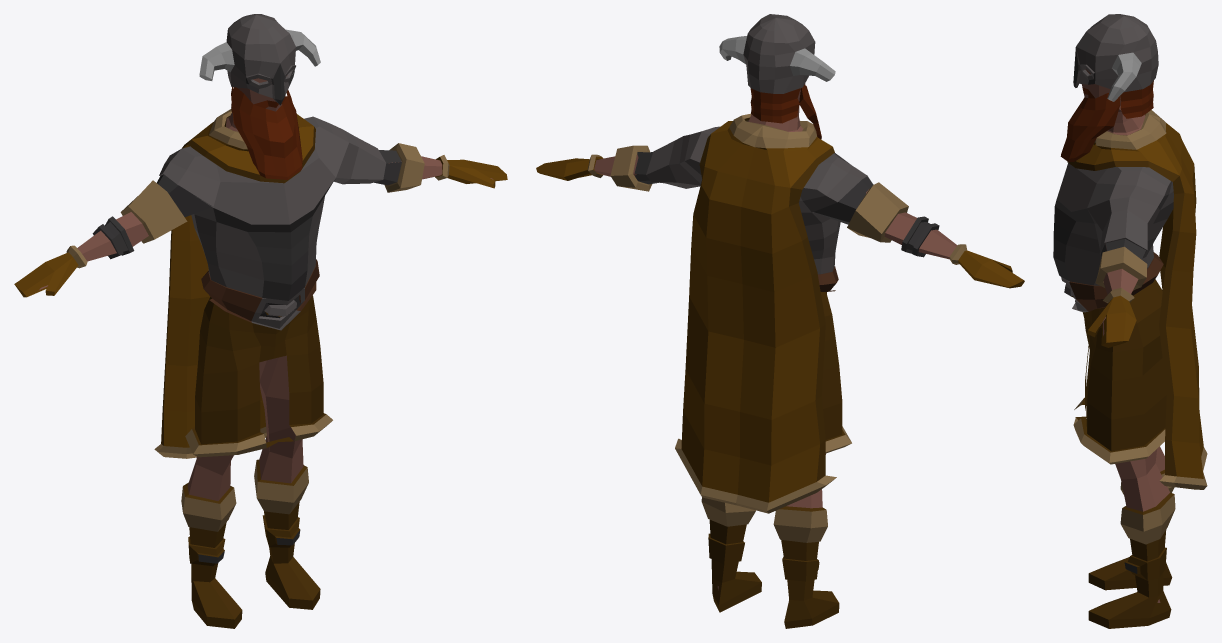
Rendered from scene_pIj8fIe1yk.glb.
3 views of the same model, side by side, from view 1: azimuth 30°, elevation 25°; view 2: azimuth 150°, elevation 25°; view 3: azimuth 270°, elevation 25° (orthographic).
Parts seen in each view (by area): view 1: Shirt_Cylinder.006, Skirt_Cylinder.001, Cape_Cylinder.008, Boots_Cylinder.009, Body_Cylinder, Helmet_Cylinder.002, Beard_Cylinder.013, Gloves_Cylinder.011, Belt_Cylinder.003, Wrist_Guard_Cylinder.010; view 2: Cape_Cylinder.008, Shirt_Cylinder.006, Boots_Cylinder.009, Helmet_Cylinder.002, Gloves_Cylinder.011, Body_Cylinder, Skirt_Cylinder.001, Wrist_Guard_Cylinder.010; view 3: Cape_Cylinder.008, Shirt_Cylinder.006, Skirt_Cylinder.001, Boots_Cylinder.009, Helmet_Cylinder.002, Body_Cylinder, Beard_Cylinder.013, Gloves_Cylinder.011, Belt_Cylinder.003.
Boxes of the visible parts, x1=… form: Shirt_Cylinder.006: x1=120, y1=116, x2=424, y2=300; Skirt_Cylinder.001: x1=185, y1=295, x2=332, y2=457; Cape_Cylinder.008: x1=154, y1=109, x2=315, y2=458; Boots_Cylinder.009: x1=181, y1=459, x2=320, y2=628; Body_Cylinder: x1=39, y1=75, x2=493, y2=500; Helmet_Cylinder.002: x1=199, y1=14, x2=320, y2=112; Beard_Cylinder.013: x1=231, y1=87, x2=302, y2=179; Gloves_Cylinder.011: x1=14, y1=155, x2=507, y2=297; Belt_Cylinder.003: x1=201, y1=259, x2=319, y2=330; Wrist_Guard_Cylinder.010: x1=92, y1=216, x2=134, y2=259; Cape_Cylinder.008: x1=675, y1=113, x2=836, y2=513; Shirt_Cylinder.006: x1=610, y1=126, x2=908, y2=274; Boots_Cylinder.009: x1=701, y1=497, x2=839, y2=628; Helmet_Cylinder.002: x1=719, y1=14, x2=835, y2=123; Gloves_Cylinder.011: x1=536, y1=154, x2=1024, y2=288; Body_Cylinder: x1=594, y1=83, x2=957, y2=590; Skirt_Cylinder.001: x1=820, y1=292, x2=851, y2=453; Wrist_Guard_Cylinder.010: x1=901, y1=216, x2=939, y2=257; Cape_Cylinder.008: x1=1067, y1=110, x2=1207, y2=489; Shirt_Cylinder.006: x1=1053, y1=163, x2=1173, y2=290; Skirt_Cylinder.001: x1=1073, y1=279, x2=1166, y2=464; Boots_Cylinder.009: x1=1088, y1=469, x2=1175, y2=628; Helmet_Cylinder.002: x1=1073, y1=14, x2=1158, y2=118; Body_Cylinder: x1=1081, y1=69, x2=1169, y2=602; Beard_Cylinder.013: x1=1060, y1=87, x2=1120, y2=161; Gloves_Cylinder.011: x1=1087, y1=288, x2=1136, y2=347; Belt_Cylinder.003: x1=1061, y1=252, x2=1163, y2=312.
Bounding box in the file's own units: 3.17 × 3.7 × 0.8826.
